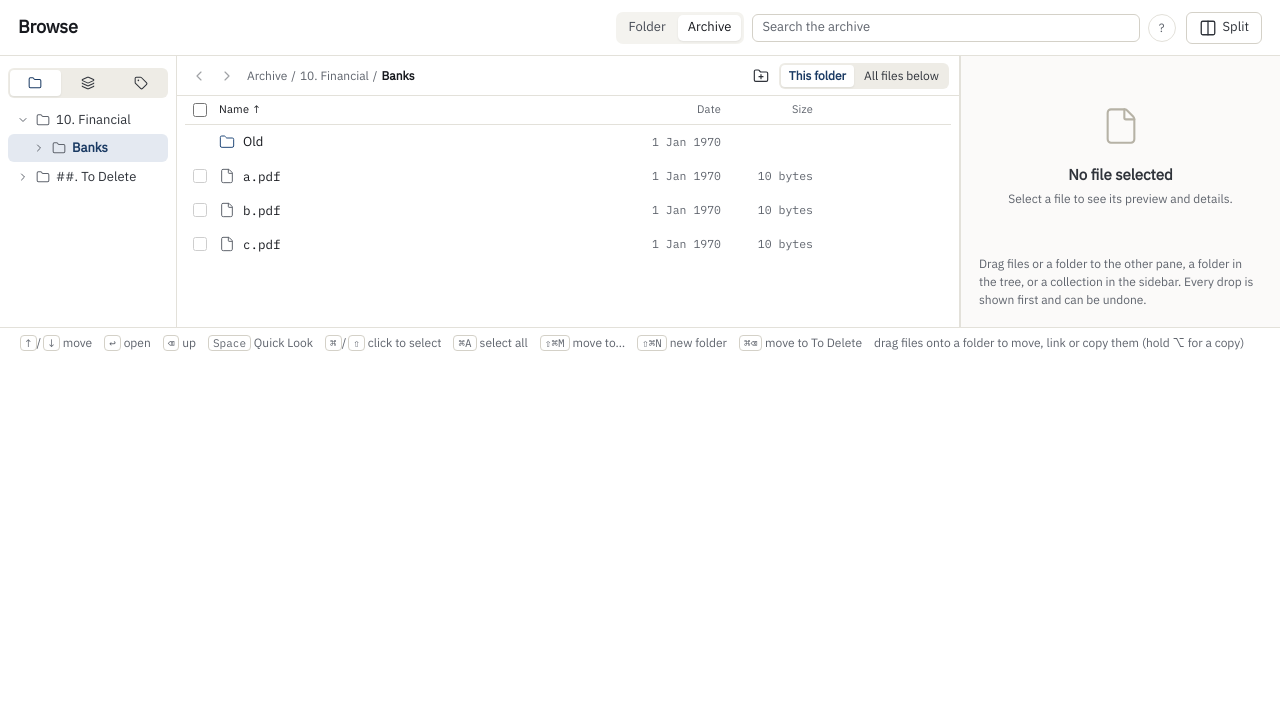
it: A folder's right-click menu › Rename… in the folder tree opens the rename sheet for that folder
Right-click the 2nd list item "Banks".
right_click(88, 148)  # box [8,134,168,162]
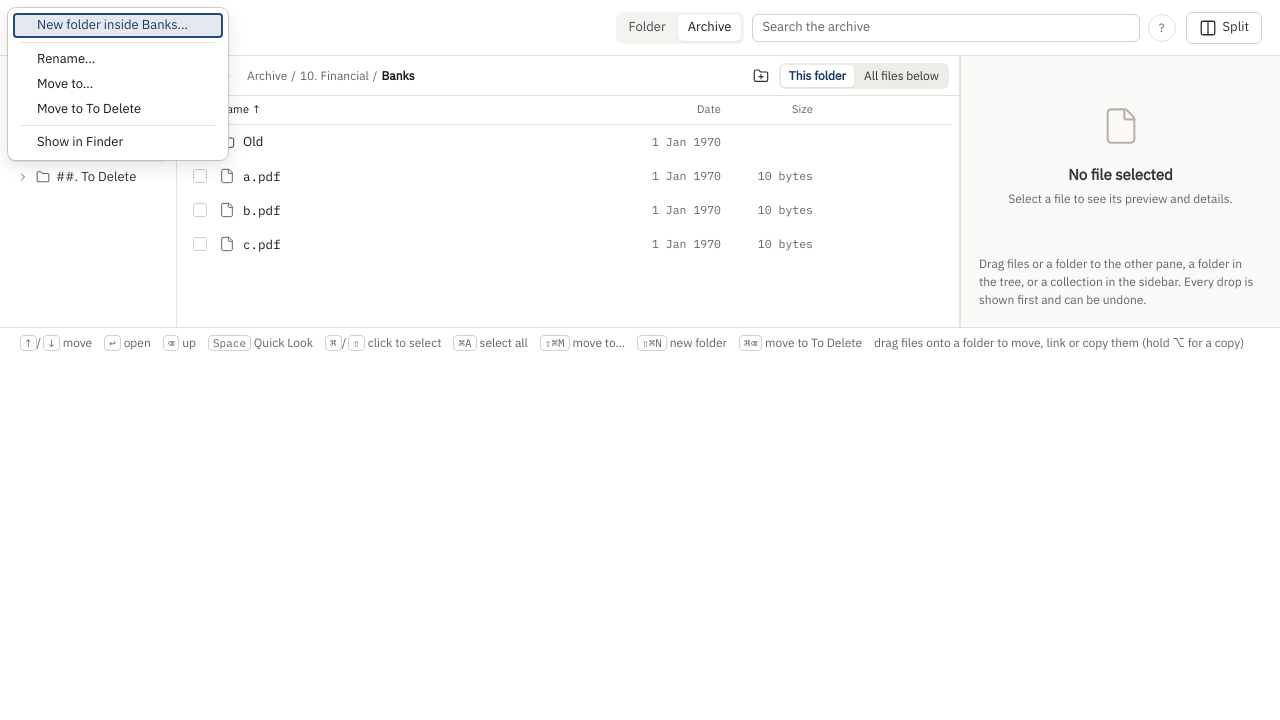
Click the menu item "Rename…".
click(118, 59)  # box [13,47,223,72]
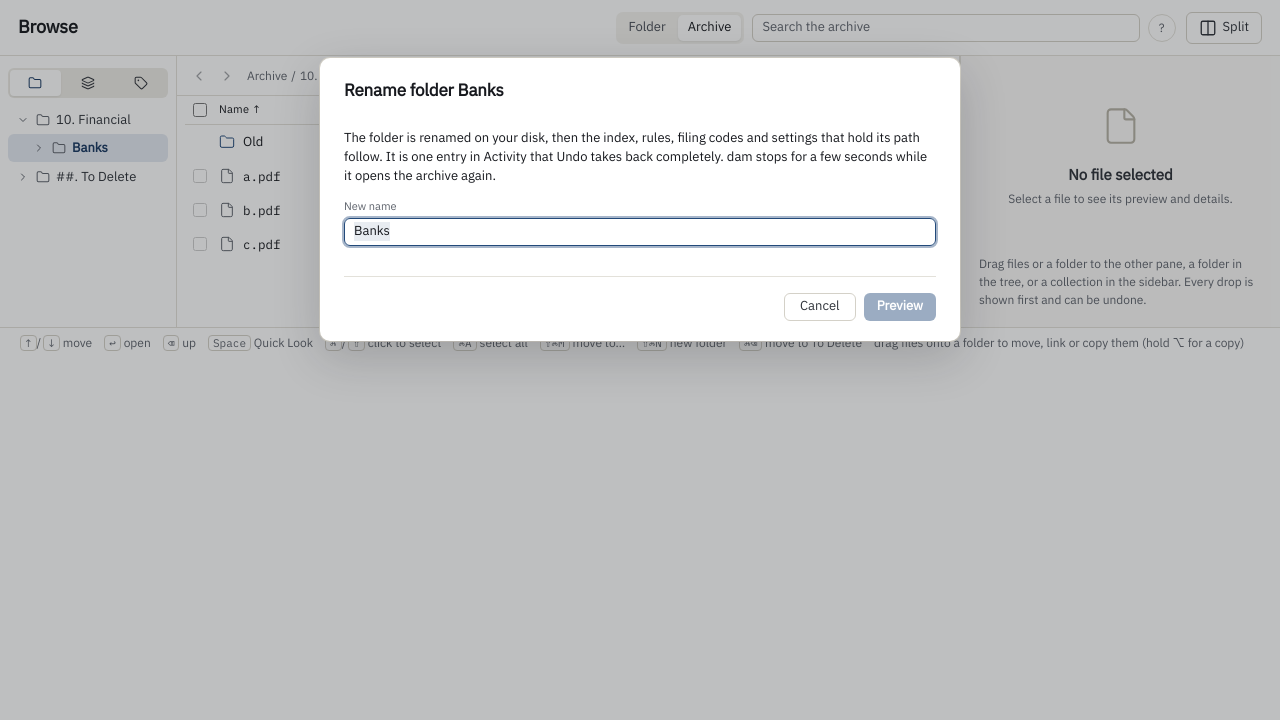
expect the field labelled "New name" holds "Banks": met, box [344,218,936,246]
